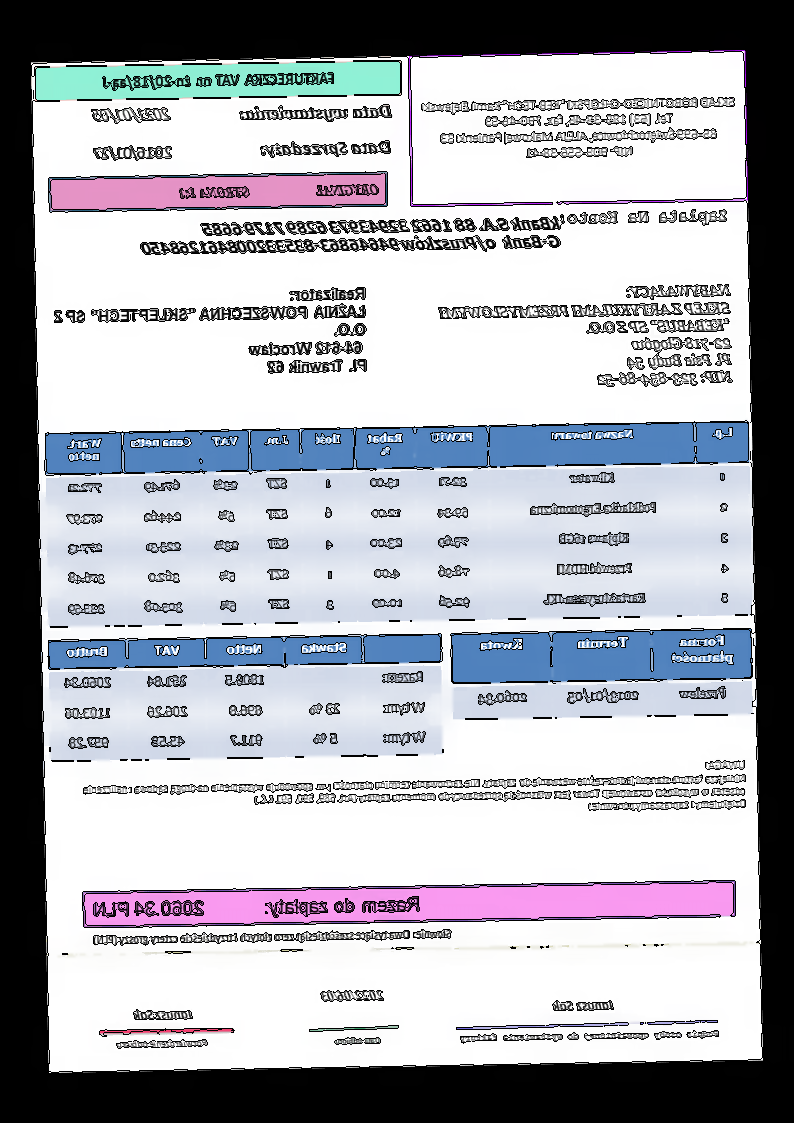Table: (44, 418, 754, 630), (46, 632, 445, 764), (451, 626, 754, 720)
TextBox: (80, 757, 748, 822), (434, 281, 734, 394), (48, 286, 370, 383), (418, 92, 738, 167), (137, 216, 562, 258), (92, 894, 422, 921), (89, 926, 454, 948), (100, 67, 338, 93), (175, 181, 381, 203), (458, 1029, 723, 1045), (240, 101, 395, 128), (558, 207, 730, 228), (258, 138, 395, 161), (89, 104, 172, 127), (92, 142, 175, 162), (550, 996, 618, 1016), (114, 1038, 210, 1050), (318, 988, 387, 1003), (131, 1007, 196, 1022), (331, 1035, 384, 1047)
